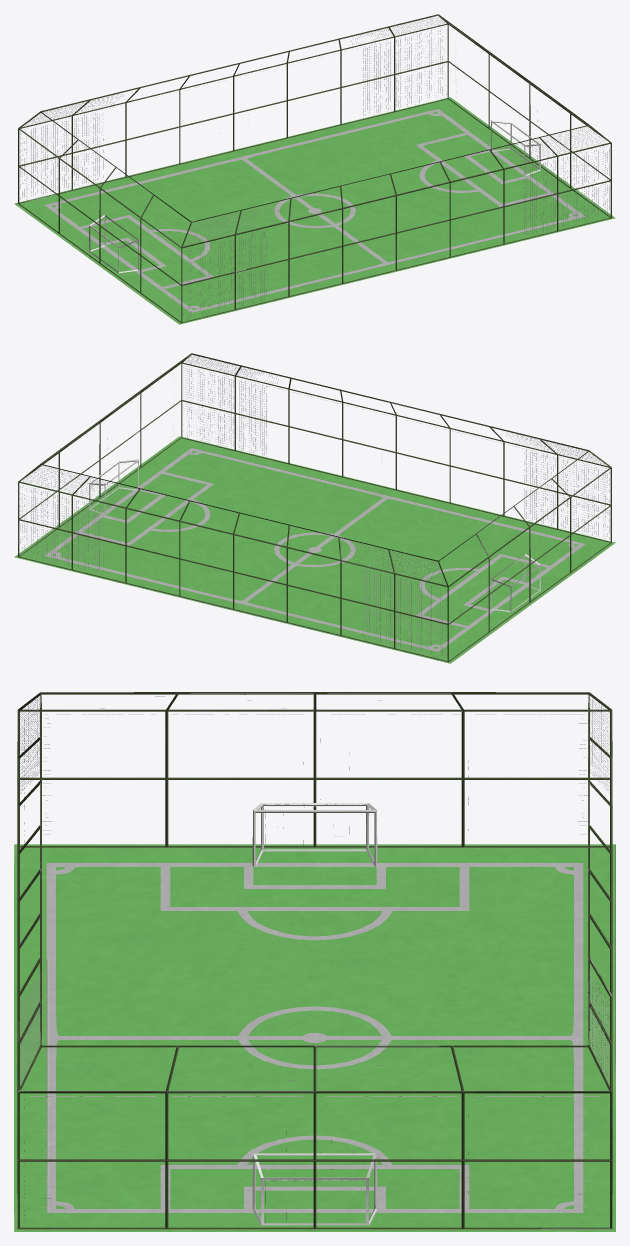
The model's file is pitch_fenced.glb.
3 renders of one model, top to bottom at view 1: azimuth 30°, elevation 25°; view 2: azimuth 150°, elevation 25°; view 3: azimuth 270°, elevation 25°, orthographic. The views are drawn at different scales.
Visible parts, largest first — view 1: pitch_fenced; view 2: pitch_fenced; view 3: pitch_fenced.
Part boxes in pixels (bbox=[...]): pitch_fenced: bbox=[14, 14, 615, 324]; pitch_fenced: bbox=[14, 353, 615, 663]; pitch_fenced: bbox=[14, 692, 615, 1231].
Bounding box in the file's own units: 38.93 × 8 × 25.55.
Materials: 1 (1 with a texture image).
